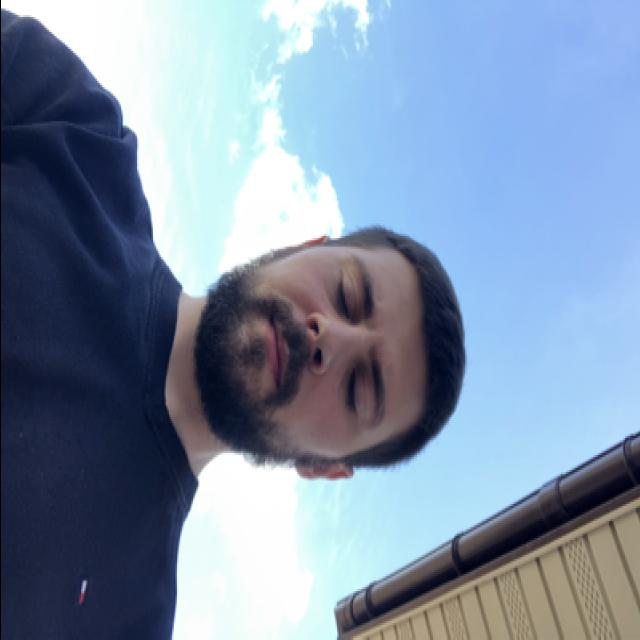without_mask: (195, 249, 400, 457)
